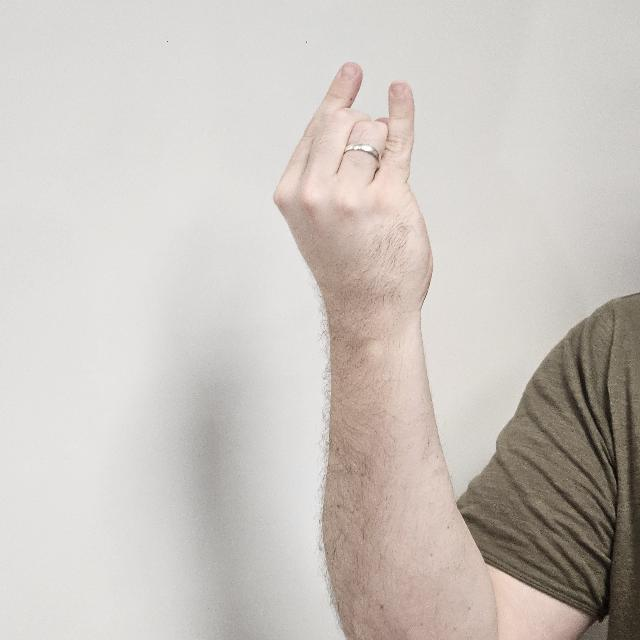L: (272, 60, 433, 368)
